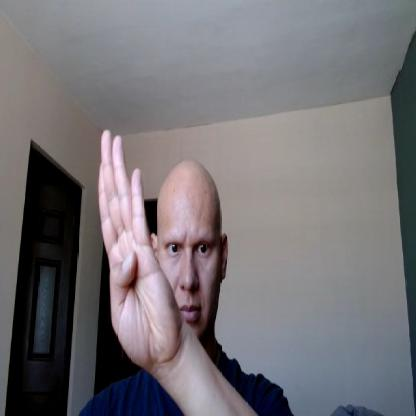B: (97, 127, 178, 368)
